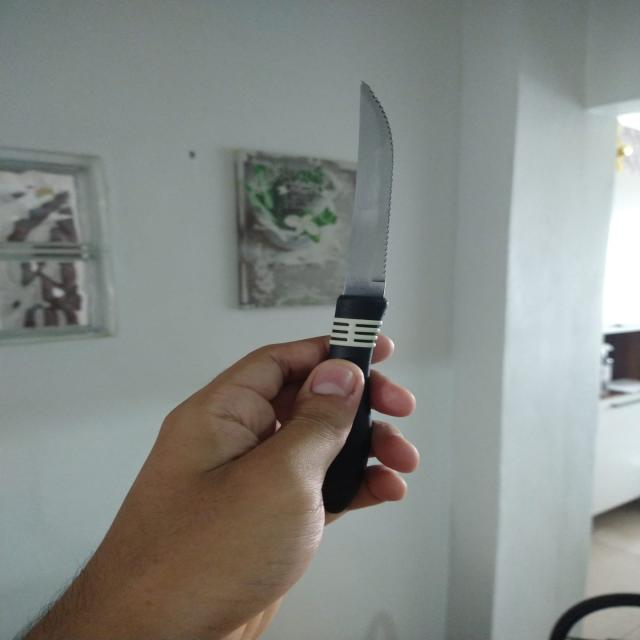knife: (326, 73, 436, 515)
